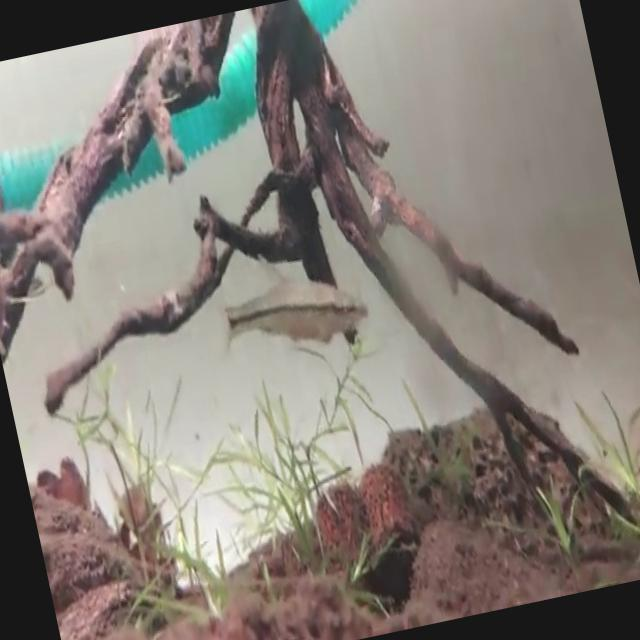Cakil Baligi: (204, 235, 384, 372)
